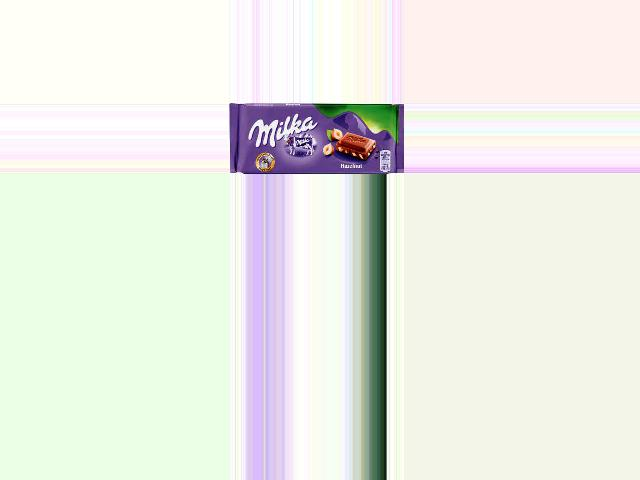chocolate: (229, 103, 404, 174)
